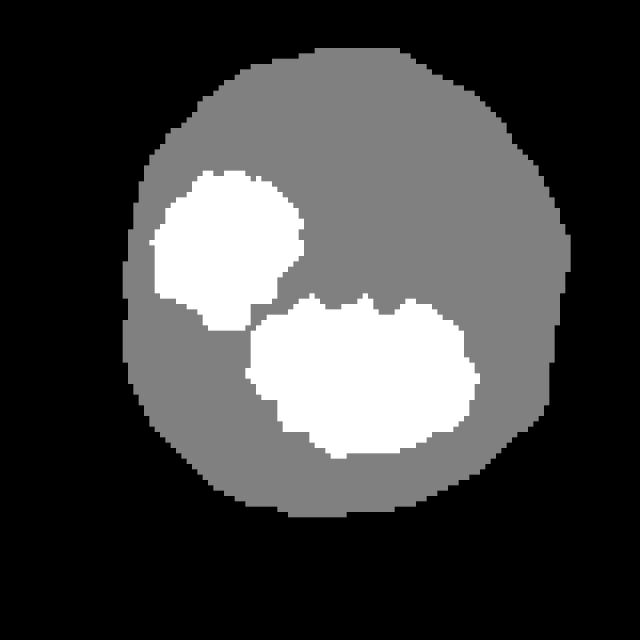WBC: (101, 21, 592, 544)
